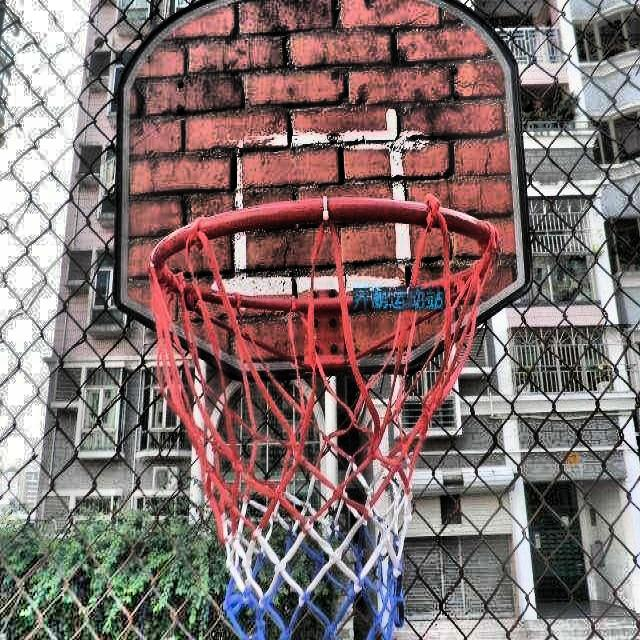rim: (150, 194, 502, 640)
